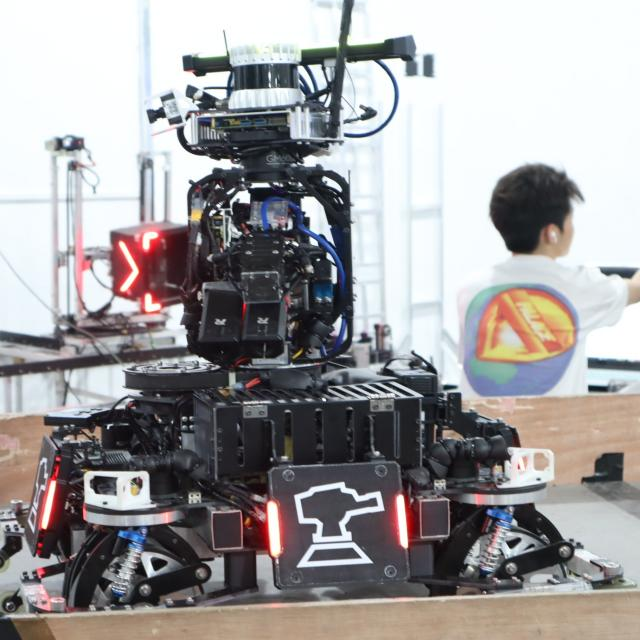Rs: (268, 473, 412, 575), (24, 444, 61, 539)
